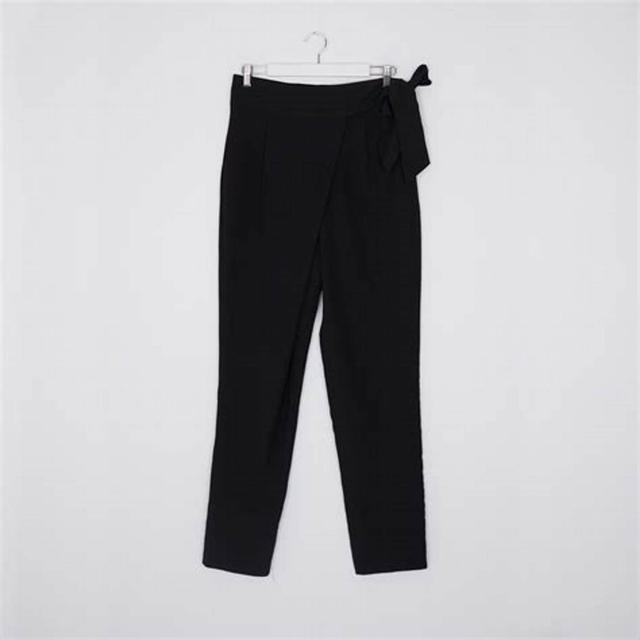long-pants: (202, 73, 431, 576)
